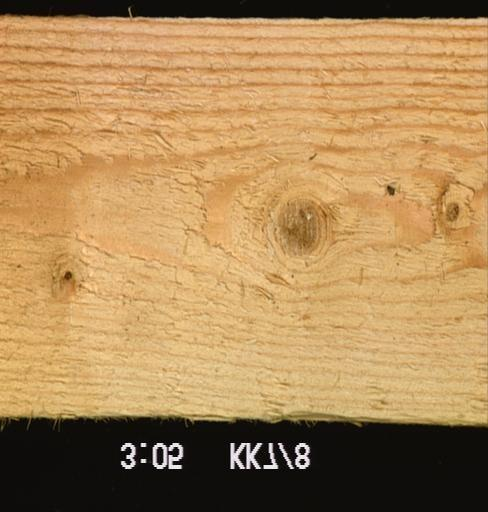small_knot: (52, 264, 82, 290), (379, 176, 401, 205)
sound_knot: (270, 197, 330, 264), (431, 177, 479, 233)
split: (182, 407, 290, 421)
